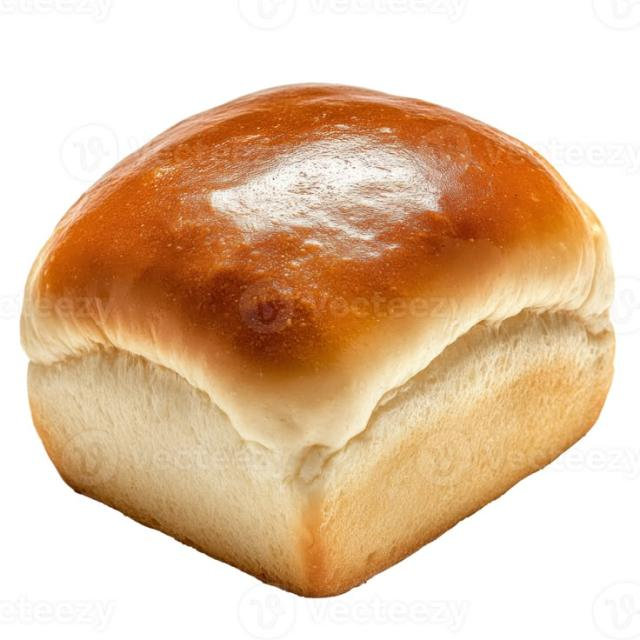bread: (21, 84, 614, 597)
